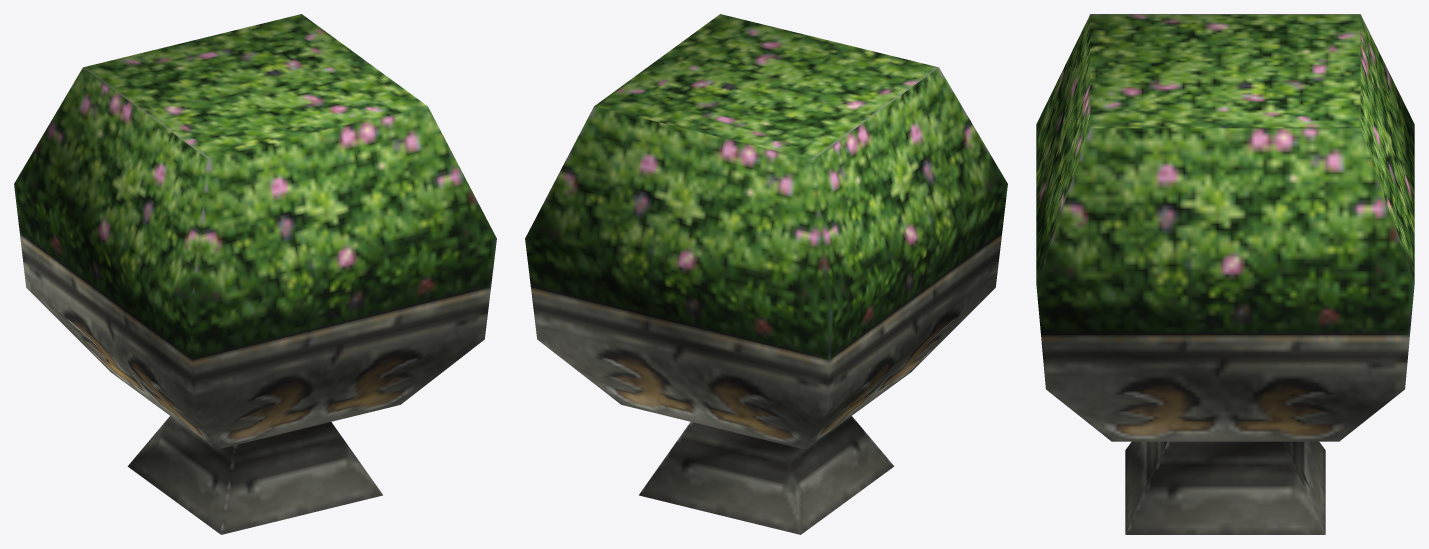
Rendered from SC_guowangchengbao_22.FBX.
3 views of the same model, side by side, from view 1: azimuth 30°, elevation 25°; view 2: azimuth 150°, elevation 25°; view 3: azimuth 270°, elevation 25° (orthographic). The views are drawn at different scales.
Visible parts, largest first — view 1: SC_guowangchengbao_22; view 2: SC_guowangchengbao_22; view 3: SC_guowangchengbao_22.
Part boxes in pixels (x1=…): SC_guowangchengbao_22: x1=14, y1=14, x2=496, y2=534; SC_guowangchengbao_22: x1=525, y1=14, x2=1007, y2=534; SC_guowangchengbao_22: x1=1036, y1=14, x2=1414, y2=534.
Size of the model in its own units: 163 by 201 by 163.
